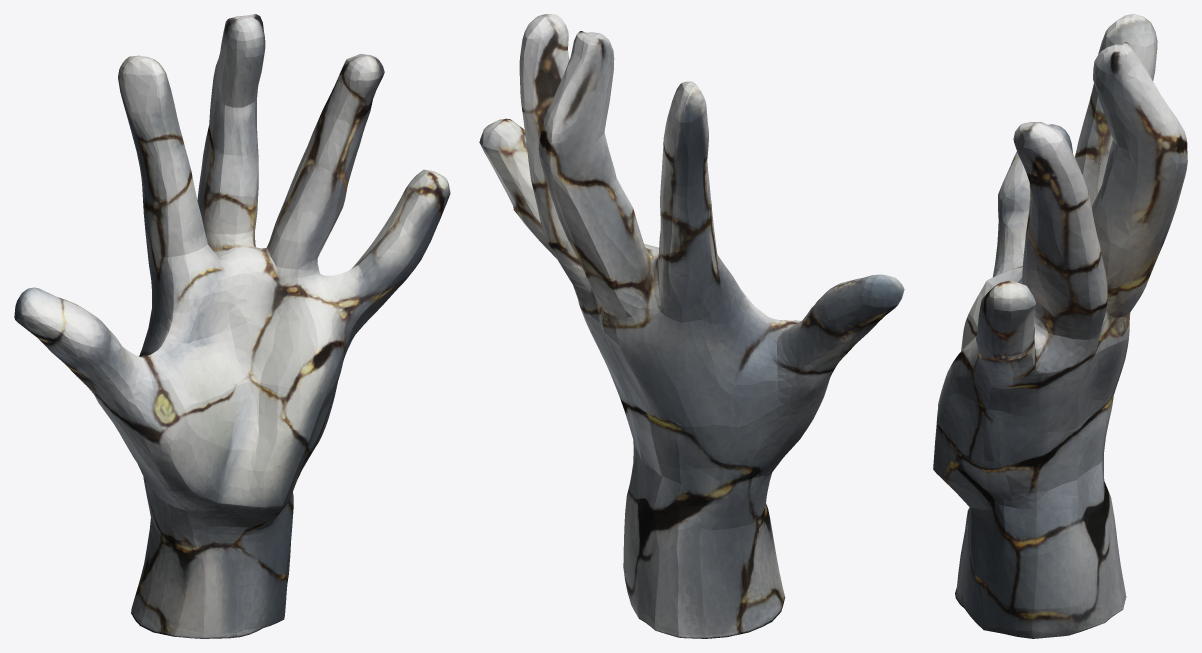
3 views of the same model, side by side, from view 1: azimuth 30°, elevation 25°; view 2: azimuth 150°, elevation 25°; view 3: azimuth 270°, elevation 25° (orthographic). The views are drawn at different scales.
Visible parts, largest first — view 1: world; view 2: world; view 3: world.
Part boxes in pixels (left/top/right/bottom): world: left=14, top=14, right=450, bottom=638; world: left=479, top=14, right=904, bottom=638; world: left=933, top=14, right=1187, bottom=638.
Bounding box in the file's own units: 0.7827 × 0.9991 × 0.3869.
Materials: 1 (1 with a texture image).
